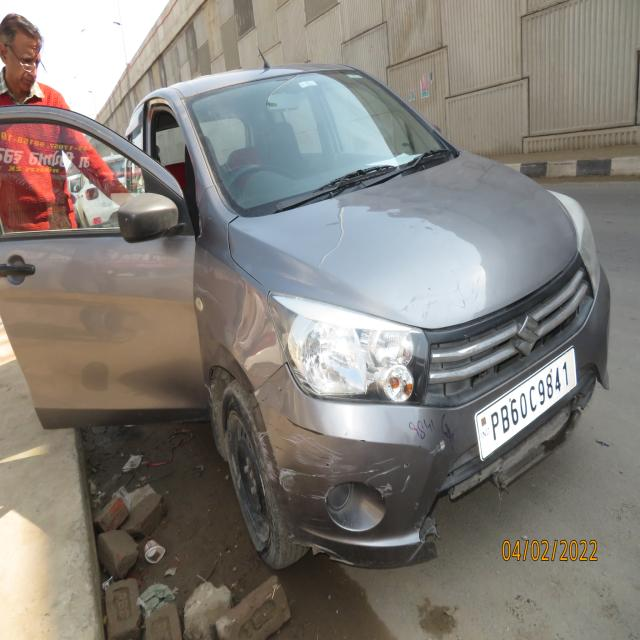damage: (253, 386, 421, 535), (419, 434, 523, 556), (533, 367, 610, 456), (292, 538, 355, 566)
